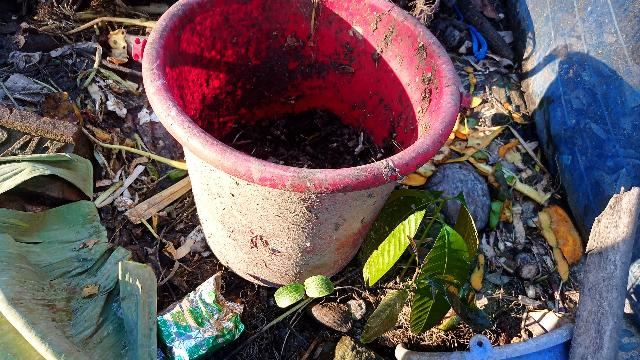hardplastic: (150, 0, 463, 298)
